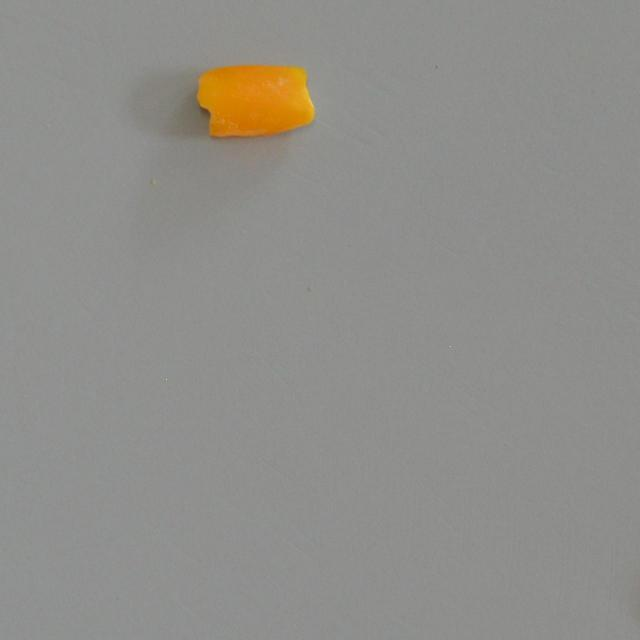pelicula: (193, 62, 316, 137)
